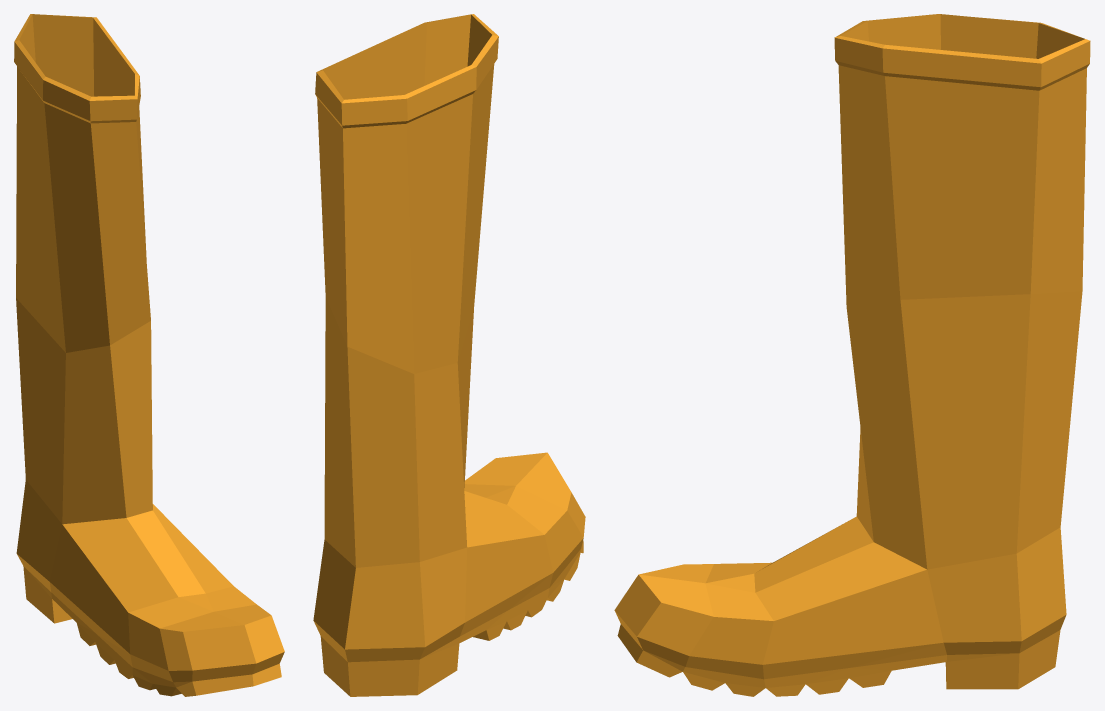
Rendered from SM_Boot_Rain_Clean.fbx.
3 views of the same model, side by side, from view 1: azimuth 30°, elevation 25°; view 2: azimuth 150°, elevation 25°; view 3: azimuth 270°, elevation 25° (orthographic). The views are drawn at different scales.
Visible parts, largest first — view 1: boot-rain-clean; view 2: boot-rain-clean; view 3: boot-rain-clean.
Boxes of the visible parts, <box> form: boot-rain-clean: <box>14,14,284,696</box>; boot-rain-clean: <box>313,14,585,696</box>; boot-rain-clean: <box>614,14,1090,696</box>.
Size of the model in its own units: 0.1023 by 0.4493 by 0.3097.
